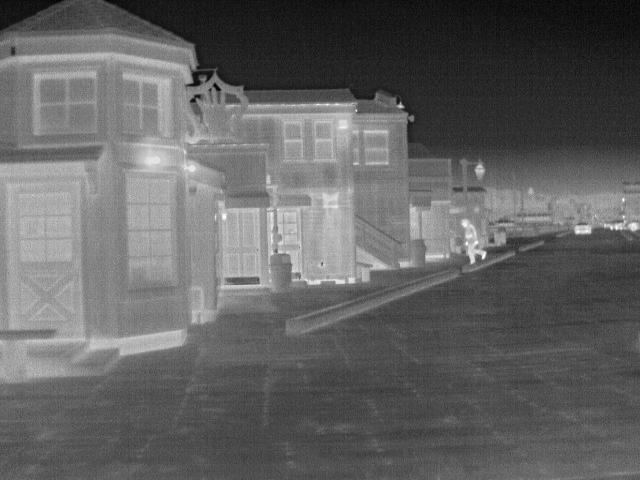car: (573, 220, 595, 236), (609, 220, 628, 232), (625, 220, 640, 232)
person: (458, 218, 487, 268)
